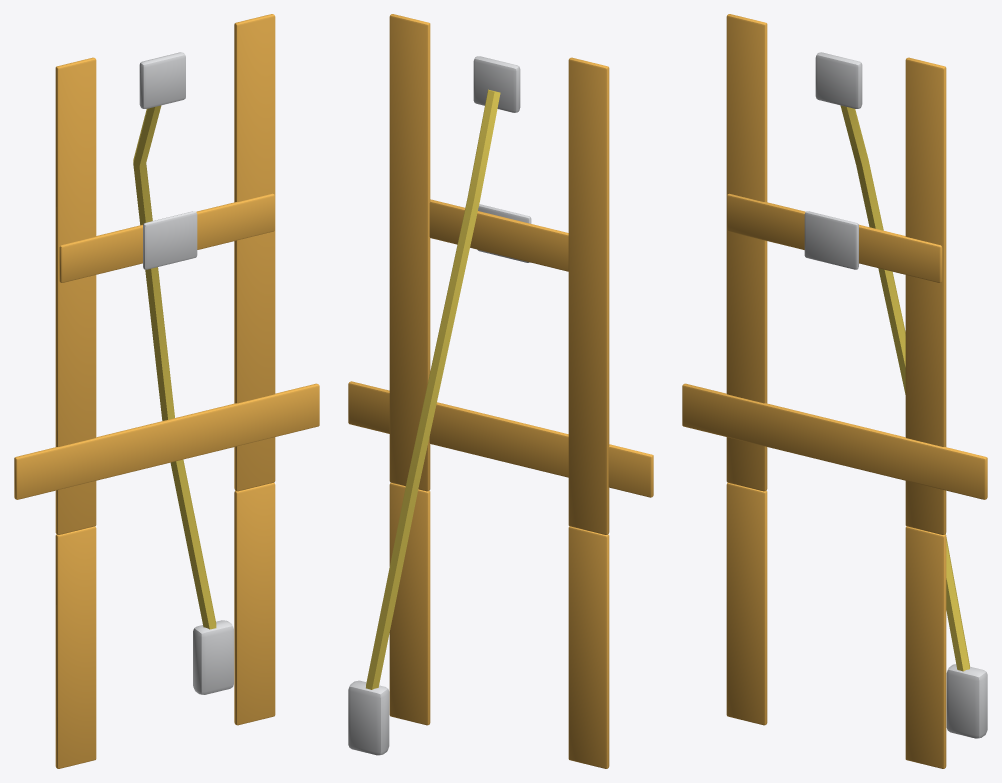
File: SER-EPI-006_anim.glb
3 views of the same model, side by side, from view 1: azimuth 30°, elevation 25°; view 2: azimuth 150°, elevation 25°; view 3: azimuth 330°, elevation 25° (orthographic).
Parts seen in each view (by area): view 1: SER-EPI-006_anim0; view 2: SER-EPI-006_anim0; view 3: SER-EPI-006_anim0.
Part boxes in pixels (bbox=[...]): SER-EPI-006_anim0: bbox=[14, 14, 319, 768]; SER-EPI-006_anim0: bbox=[348, 14, 653, 768]; SER-EPI-006_anim0: bbox=[682, 14, 987, 768].
Bounding box in the file's own units: 0.34 × 0.75 × 0.102.
